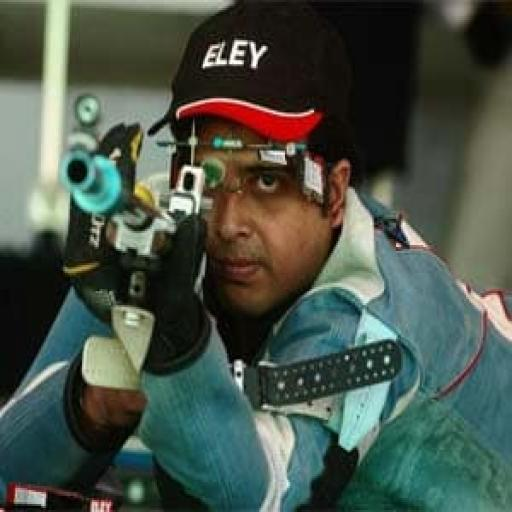shooting: (0, 0, 510, 510)
